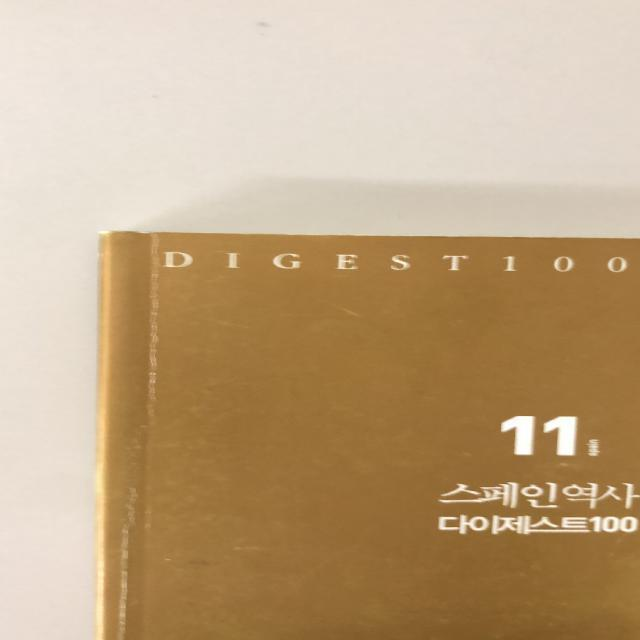Wornout: (94, 227, 146, 240)
